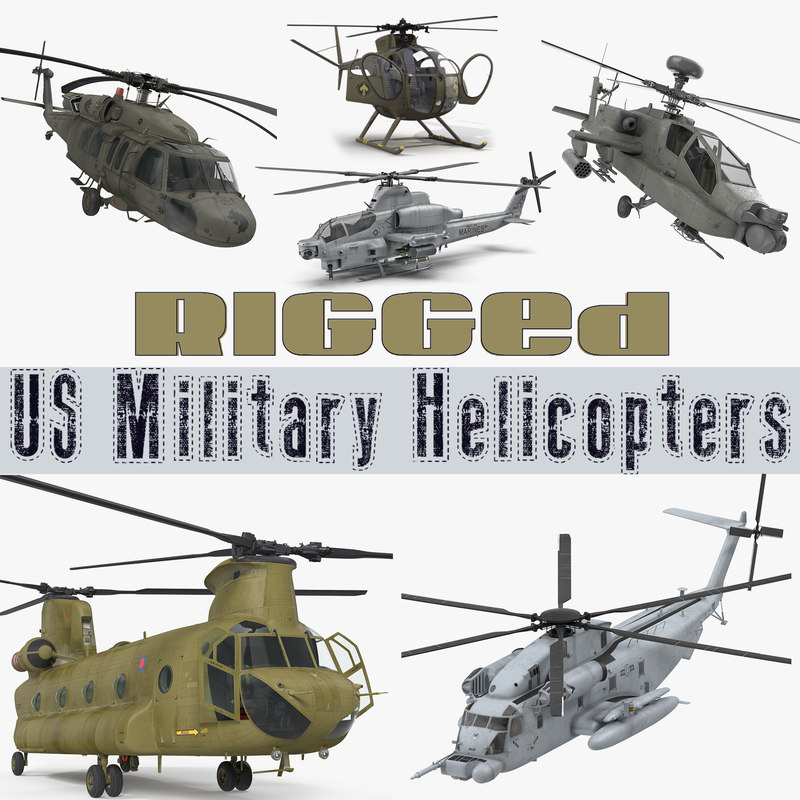MilitaryHelicopter: (2, 513, 390, 791), (403, 525, 800, 777), (559, 30, 793, 270), (8, 35, 269, 250), (289, 7, 519, 157), (292, 176, 545, 262)
